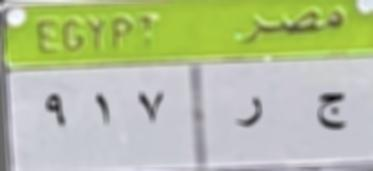1: (89, 92, 121, 128)
7: (134, 90, 176, 127)
9: (39, 91, 70, 132)
jeem: (304, 88, 352, 138)
raa: (234, 94, 268, 136)
